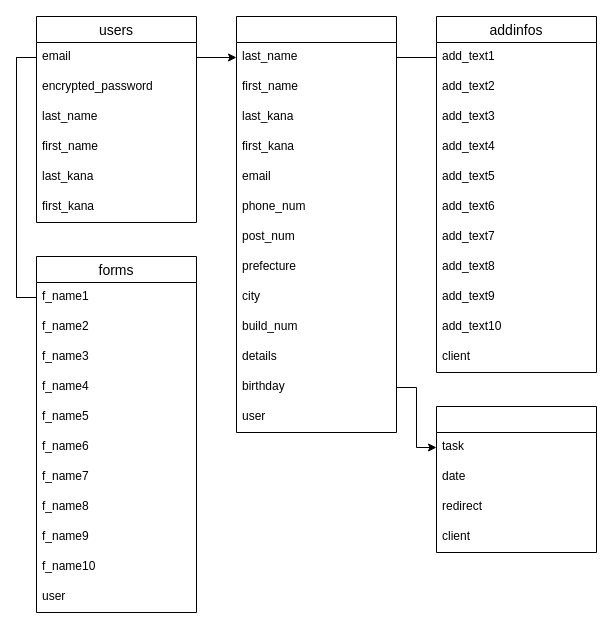
The diagram is 613 pixels wide and 629 high, and some of its shapes have lost their labels. The box of each missing label's shape, as (x1, y1, x2, y2) in pixels:
clients: (236, 16, 396, 432)
tasks: (436, 406, 596, 552)
